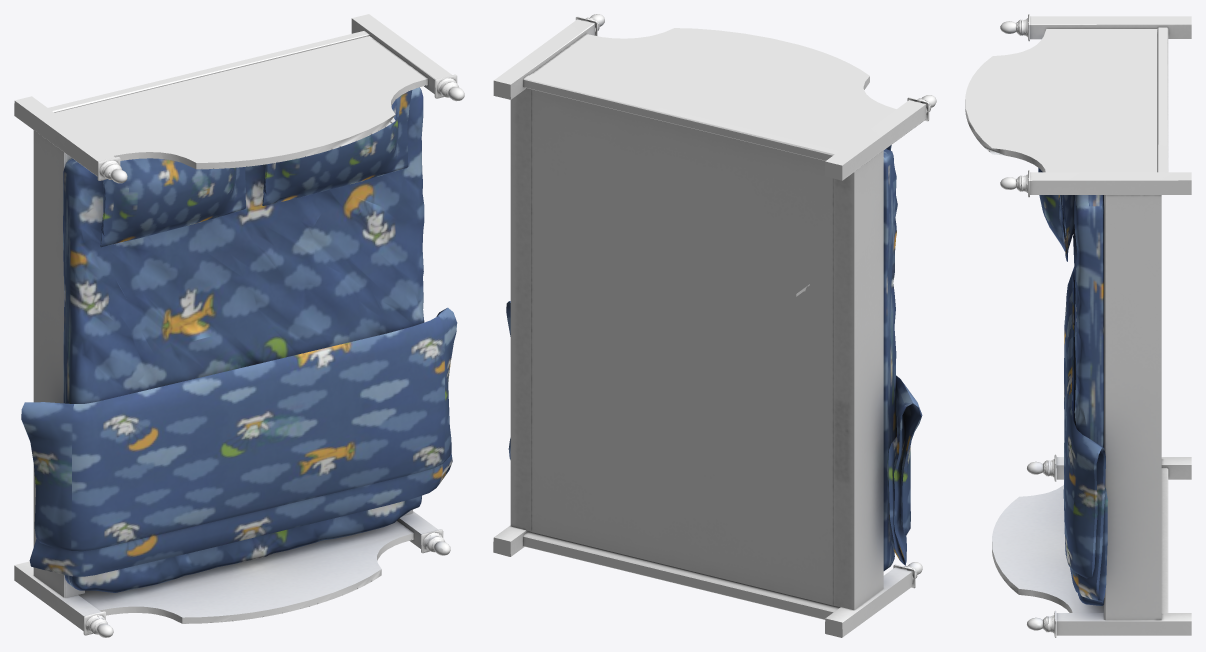
File: raw_model.glb
3 views of the same model, side by side, from view 1: azimuth 30°, elevation 25°; view 2: azimuth 150°, elevation 25°; view 3: azimuth 270°, elevation 25° (orthographic). The views are drawn at different scales.
Parts seen in each view (by area): view 1: raw_model.027; view 2: raw_model.027; view 3: raw_model.027.
Part boxes in pixels (box(x1,y1,x2,y2)): raw_model.027: box(14, 14, 464, 637); raw_model.027: box(493, 14, 936, 637); raw_model.027: box(965, 14, 1191, 637).
Size of the model in its own units: 2.12 by 2.28 by 1.02.
1 material, 1 textured.
